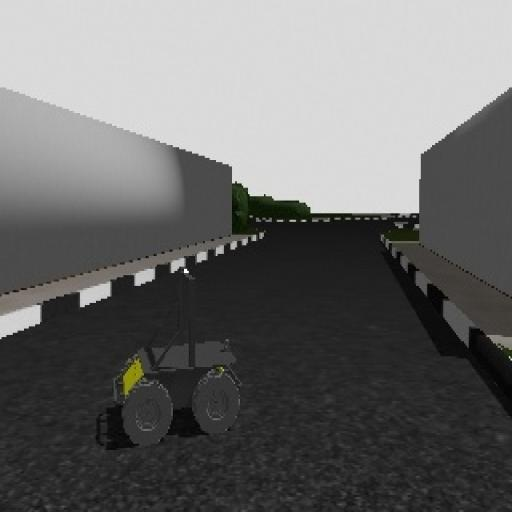huskya200: (105, 259, 260, 454)
